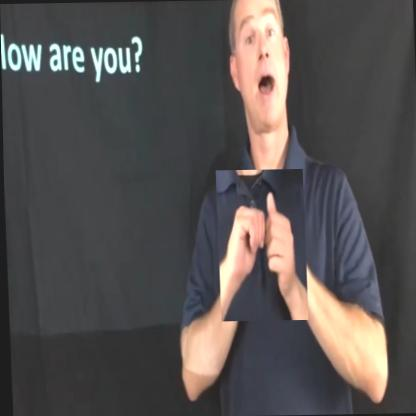HowAreYou: (214, 168, 306, 320)
